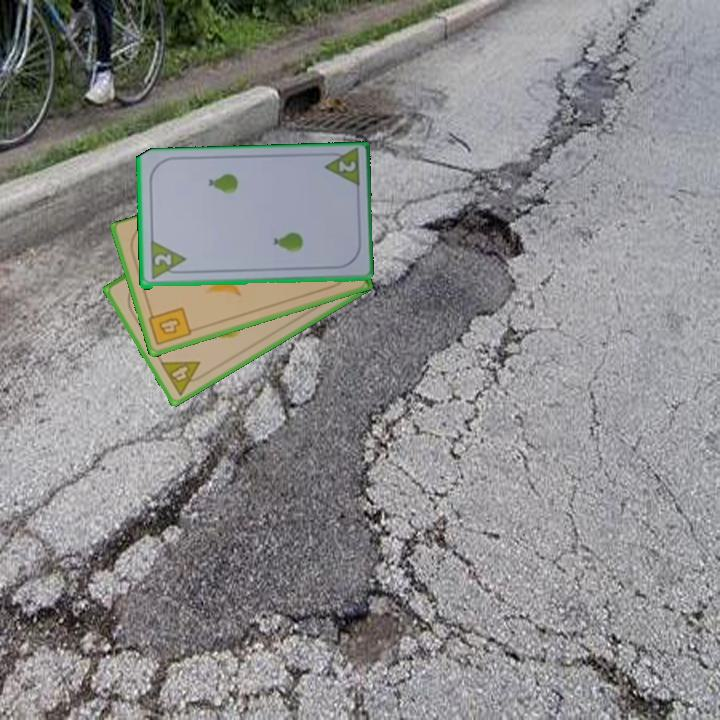2p: (150, 251, 174, 270), (335, 158, 358, 175)
4b: (145, 304, 194, 348)
4p: (157, 357, 210, 399)
